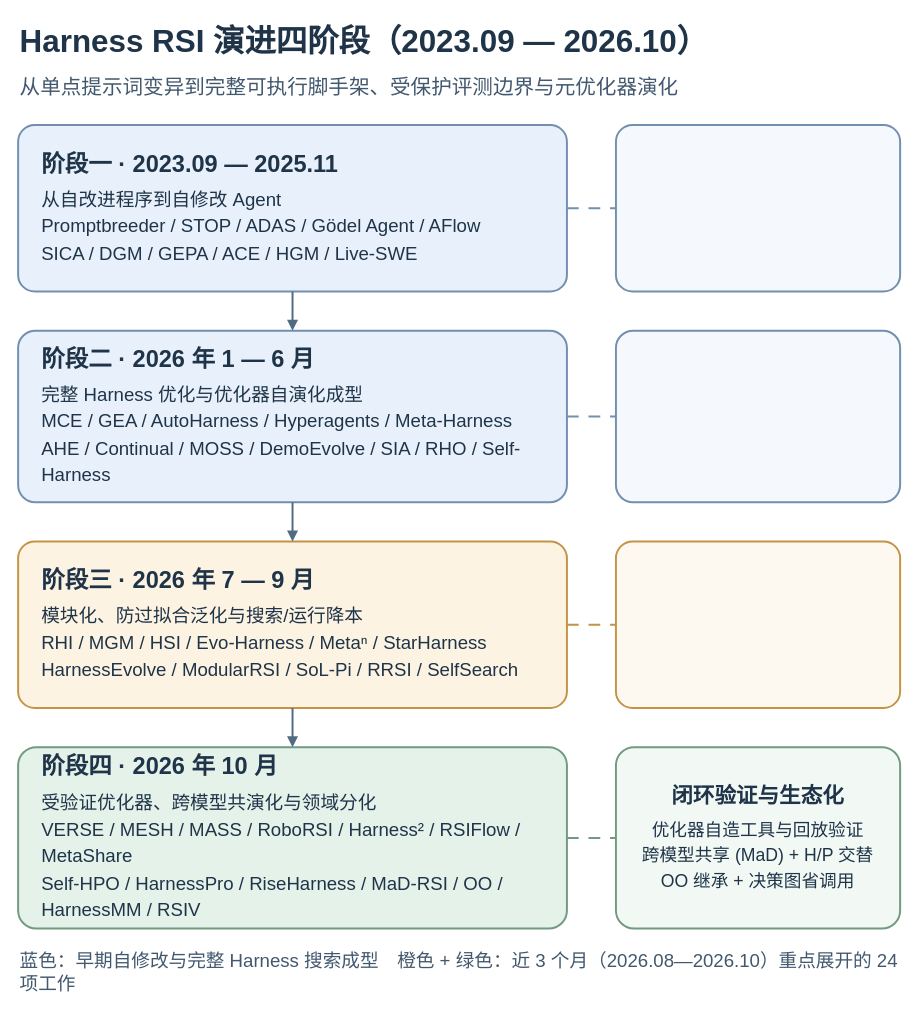
This 917x1011 diagram has some shape labels left out. Here are the shapes that lost their labels. From the top down, the centre of each, then its label:
the point at 757,207: 更新面扩张 单条 Prompt → 工作流图 → Agent 自身源码库 → 演化分支档案 (DGM)
the point at 757,416: 证据与元层成型 文件系统全量轨迹检索 Task + Meta 同程序可改 三层可观测性与在线演化
the point at 757,624: 约束与成本纪律 五模块解耦 + 留出集隔离 修改预算正则与剪枝 (RRSI) Token 流量砍半 / 免奖励搜索
